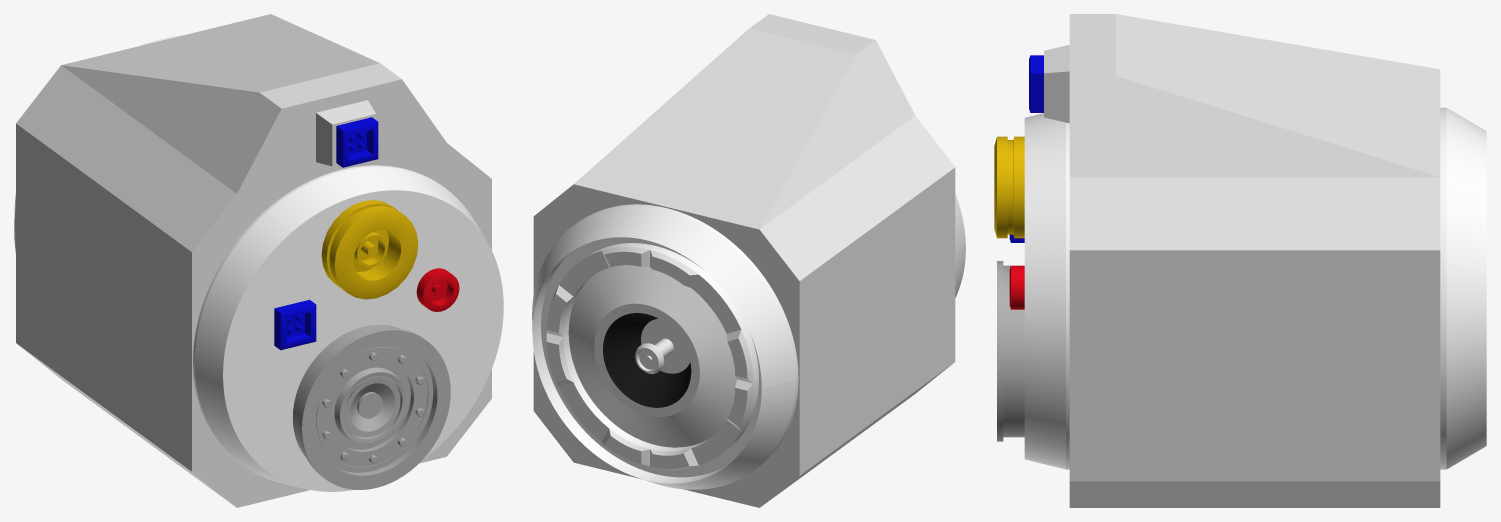
Rendered from DockingPort.gltf.
The picture shows the model from 3 angles, left to right: view 1: azimuth 30°, elevation 25°; view 2: azimuth 150°, elevation 25°; view 3: azimuth 270°, elevation 25°; orthographic projection. The views are drawn at different scales.
Parts seen in each view (by area): view 1: Cube; view 2: Cube; view 3: Cube.
Boxes of the visible parts, x1,y1,x2,y2 form: Cube: [14, 14, 503, 507]; Cube: [532, 14, 965, 507]; Cube: [994, 14, 1486, 507].
Bounding box in the file's own units: 0.504 × 0.6233 × 0.68.
